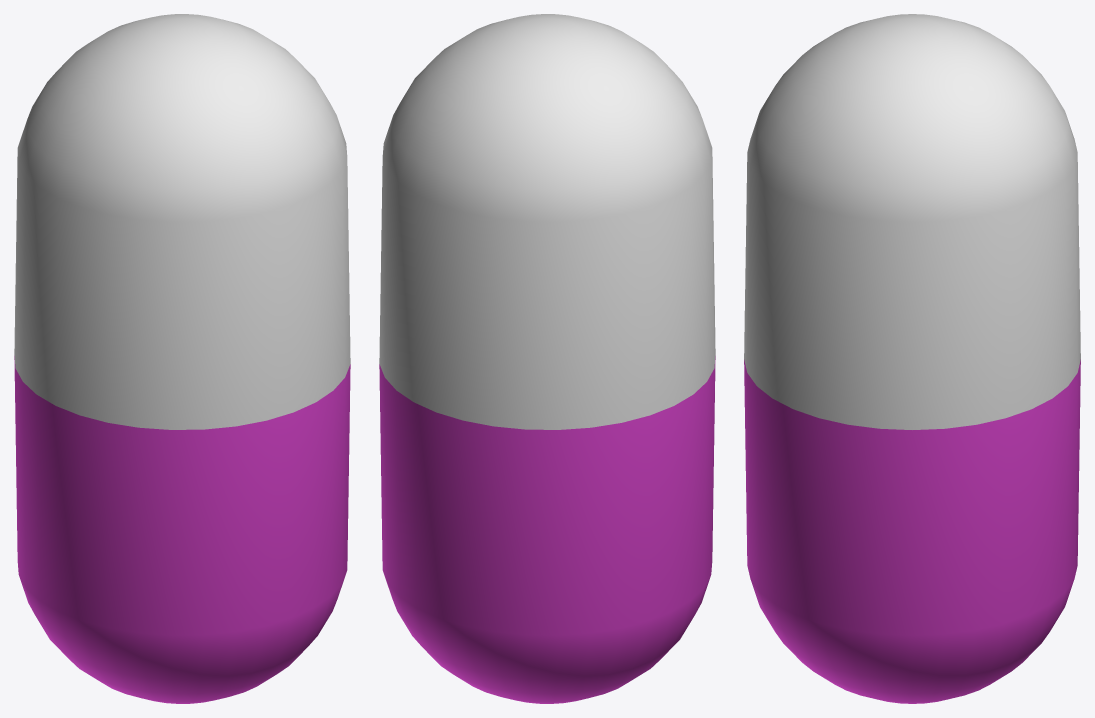
3 views of the same model, side by side, from view 1: azimuth 30°, elevation 25°; view 2: azimuth 150°, elevation 25°; view 3: azimuth 270°, elevation 25° (orthographic).
Visible parts, largest first — view 1: 球.001; view 2: 球.001; view 3: 球.001.
Part boxes in pixels (<box>): 球.001: <box>14,14,350,703</box>; 球.001: <box>379,14,715,703</box>; 球.001: <box>744,14,1080,703</box>.
Size of the model in its own units: 200 by 432 by 200.
